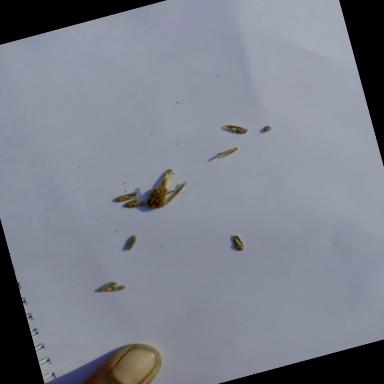pbw: (214, 146, 240, 162), (102, 282, 130, 296), (112, 190, 140, 204), (96, 278, 120, 294), (122, 234, 142, 252), (122, 197, 146, 211), (231, 232, 246, 252)
